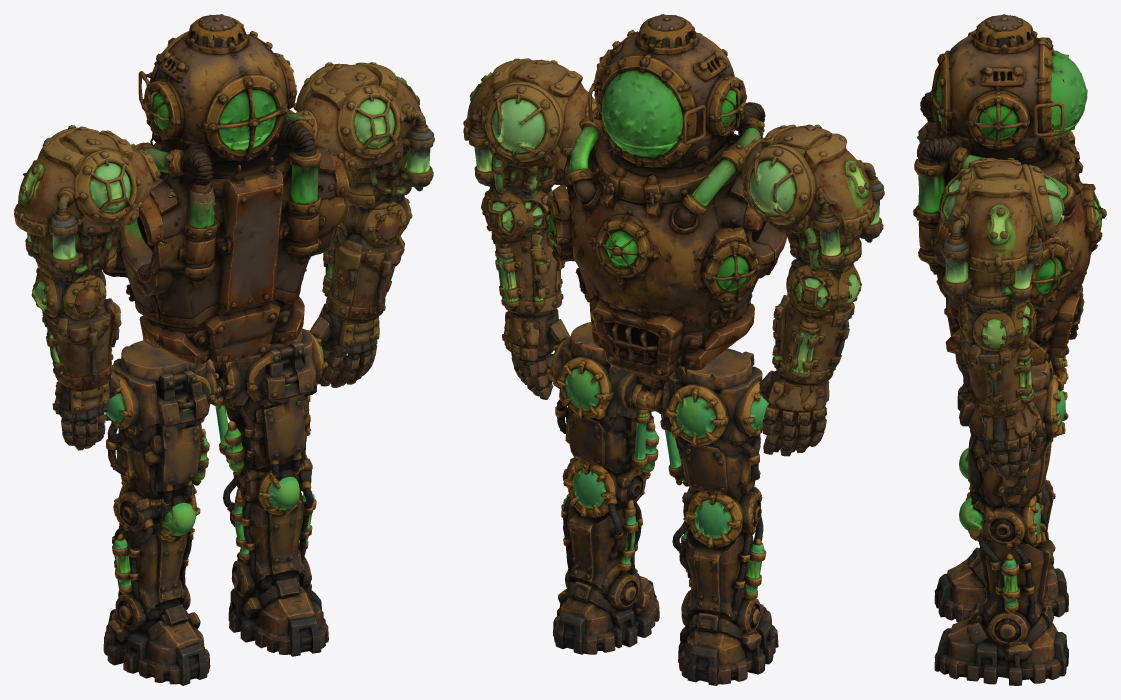
File: Gear_T12.glb
3 renders of one model, left to right at view 1: azimuth 30°, elevation 25°; view 2: azimuth 150°, elevation 25°; view 3: azimuth 270°, elevation 25°, orthographic.
Parts seen in each view (by area): view 1: Torso_Upper, ArmL_Upper, Head, ArmR_Upper, LegL_Upper, LegR_Upper, LegL_Foot, LegR_Foot, LegL_Lower, ArmR_Lower, LegR_Lower, ArmL_Lower (+3 smaller); view 2: Torso_Upper, Head, ArmL_Upper, ArmR_Upper, LegL_Upper, LegR_Upper, LegL_Lower, LegR_Lower, ArmL_Lower, LegR_Foot, LegL_Foot, ArmR_Lower (+3 smaller); view 3: Torso_Upper, Head, ArmR_Upper, LegR_Foot, LegR_Lower, ArmR_Lower, LegR_Upper, LegL_Foot, ArmR_Hand, Torso_Lower, LegL_Lower, LegL_Upper.
Boxes of the visible parts, <box> form: Torso_Upper: <box>102,110,349,356</box>; ArmL_Upper: <box>14,125,160,283</box>; Head: <box>138,14,300,153</box>; ArmR_Upper: <box>293,62,434,209</box>; LegL_Upper: <box>104,340,221,500</box>; LegR_Upper: <box>213,328,327,473</box>; LegL_Foot: <box>103,582,210,685</box>; LegR_Foot: <box>228,552,328,656</box>; LegL_Lower: <box>112,478,203,595</box>; ArmR_Lower: <box>322,197,412,319</box>; LegR_Lower: <box>223,454,316,567</box>; ArmL_Lower: <box>31,267,121,388</box>; Torso_Upper: <box>541,102,786,355</box>; Head: <box>588,14,753,146</box>; ArmL_Upper: <box>741,124,884,277</box>; ArmR_Upper: <box>463,58,596,204</box>; LegL_Upper: <box>645,348,768,503</box>; LegR_Upper: <box>546,322,659,474</box>; LegL_Lower: <box>672,480,766,606</box>; LegR_Lower: <box>561,457,652,576</box>; ArmL_Lower: <box>772,259,861,383</box>; LegR_Foot: <box>553,556,659,654</box>; LegL_Foot: <box>678,590,778,685</box>; ArmR_Lower: <box>481,188,565,321</box>; Torso_Upper: <box>913,91,1106,349</box>; Head: <box>928,14,1087,145</box>; ArmR_Upper: <box>938,157,1064,313</box>; LegR_Foot: <box>934,594,1068,685</box>; LegR_Lower: <box>959,492,1055,611</box>; ArmR_Lower: <box>954,298,1036,416</box>; LegR_Upper: <box>957,360,1068,510</box>; LegL_Foot: <box>934,547,1068,622</box>; ArmR_Hand: <box>981,401,1045,480</box>; Torso_Lower: <box>945,297,1078,365</box>; LegL_Lower: <box>959,448,1055,534</box>; LegL_Upper: <box>957,356,1068,432</box>.
Bounding box in the file's own units: 4.21 × 6.25 × 1.77.
3 materials, 3 textured.
